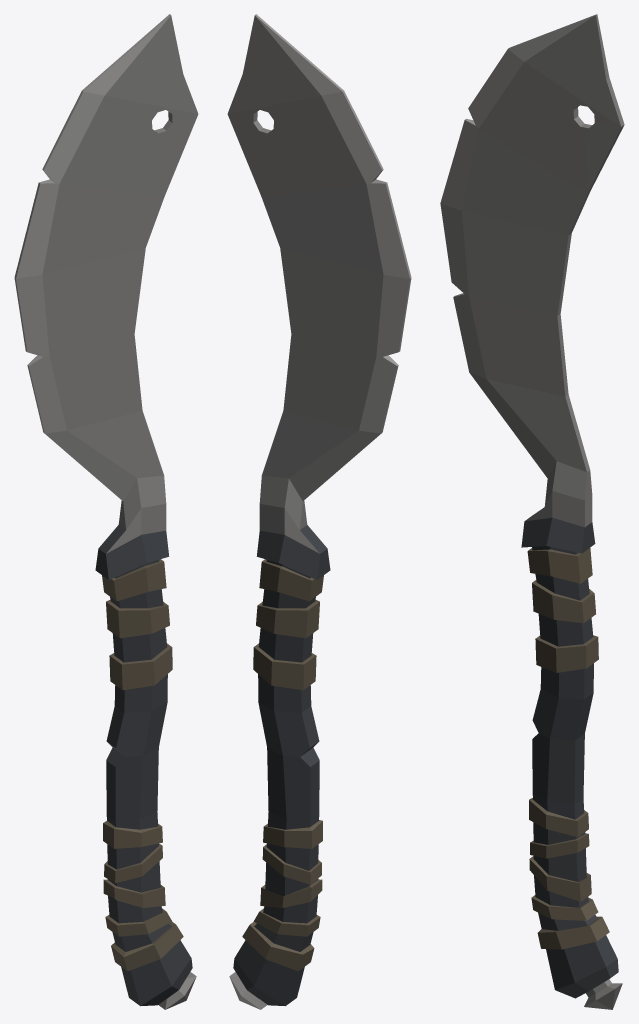
Rendered from ButcherCleaver_B.glb.
The picture shows the model from 3 angles, left to right: view 1: azimuth 30°, elevation 25°; view 2: azimuth 150°, elevation 25°; view 3: azimuth 330°, elevation 25°; orthographic projection.
Parts seen in each view (by area): view 1: ButcherCleaver_B; view 2: ButcherCleaver_B; view 3: ButcherCleaver_B.
Boxes of the visible parts, x1,y1,x2,y2 form: ButcherCleaver_B: [14, 14, 198, 1009]; ButcherCleaver_B: [227, 14, 411, 1009]; ButcherCleaver_B: [440, 14, 624, 1009].
Bounding box in the file's own units: 6805 × 35463 × 1732.
Materials: 1 (1 with a texture image).
